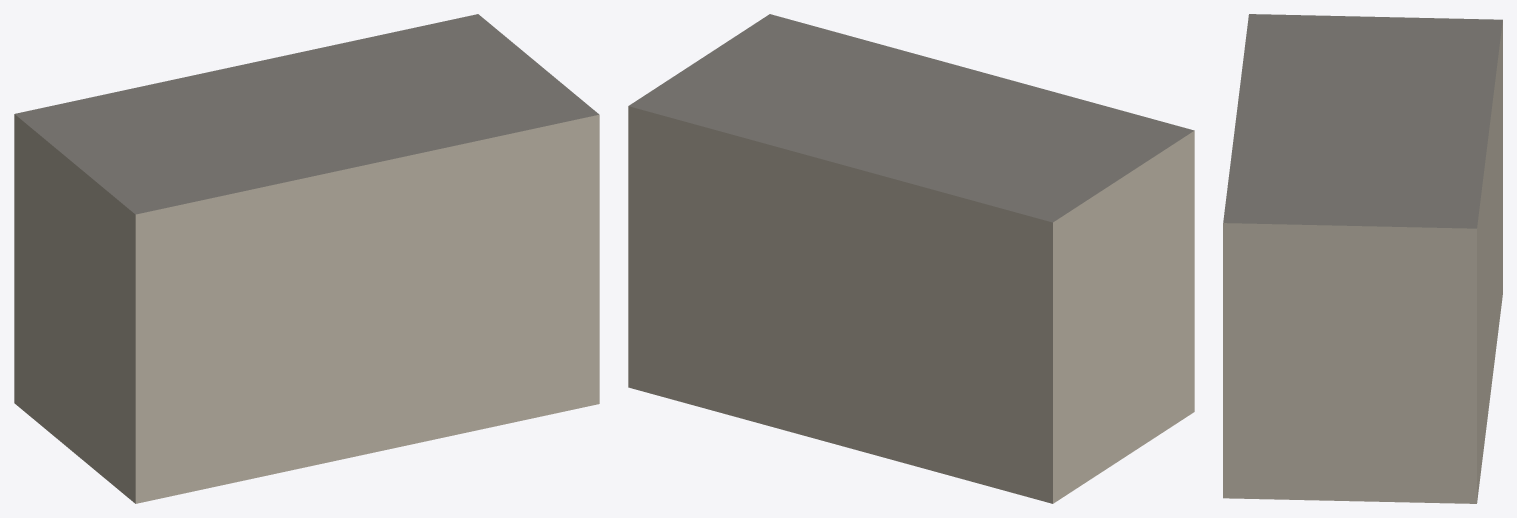
3 renders of one model, left to right at view 1: azimuth 30°, elevation 25°; view 2: azimuth 150°, elevation 25°; view 3: azimuth 270°, elevation 25°, orthographic. The views are drawn at different scales.
Visible parts, largest first — view 1: HP-w1435272420; view 2: HP-w1435272420; view 3: HP-w1435272420.
Part boxes in pixels (left/top/right/bottom): HP-w1435272420: left=14, top=14, right=599, bottom=503; HP-w1435272420: left=628, top=14, right=1194, bottom=503; HP-w1435272420: left=1223, top=14, right=1502, bottom=503.
Bounding box in the file's own units: 30.11 × 18 × 16.58.
